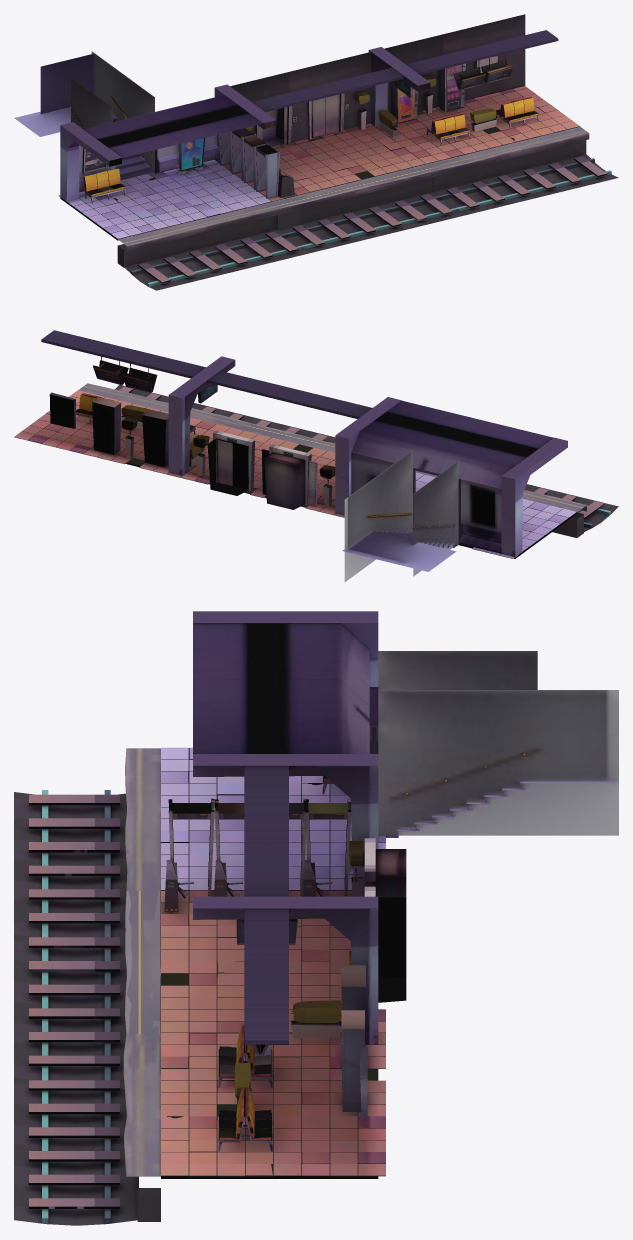
The model's file is station.glb.
3 renders of one model, top to bottom at view 1: azimuth 30°, elevation 25°; view 2: azimuth 150°, elevation 25°; view 3: azimuth 270°, elevation 25°, orthographic. The views are drawn at different scales.
Visible parts, largest first — view 1: Cube.027; view 2: Cube.027; view 3: Cube.027.
Part boxes in pixels (left/top/right/bottom): Cube.027: left=14, top=14, right=618, bottom=290; Cube.027: left=14, top=330, right=618, bottom=582; Cube.027: left=14, top=611, right=618, bottom=1225.
Size of the model in its own units: 25.62 by 5.44 by 15.29.
Materials: 1 (1 with a texture image).
